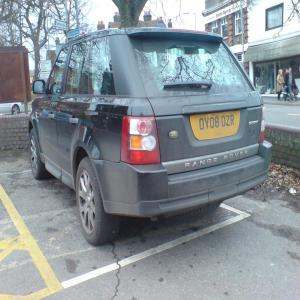Vehicle-registration-plate: (189, 103, 242, 148)
